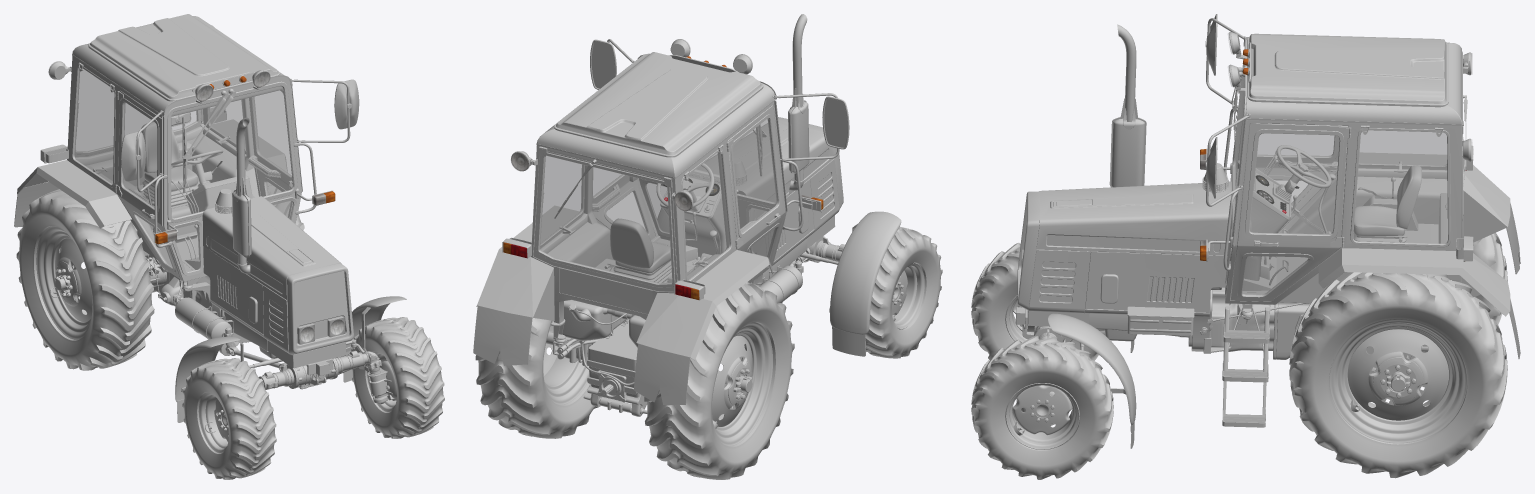
The model's file is Tractor MTZ.fbx.
3 renders of one model, left to right at view 1: azimuth 30°, elevation 25°; view 2: azimuth 150°, elevation 25°; view 3: azimuth 270°, elevation 25°, orthographic. The views are drawn at different scales.
Visible parts, largest first — view 1: Cabin, Wheel Back R, Painted, Corpus, Wheel Front R, Wheel Front L, Chassis Front, Door R, Door L, Chassis Back, Exhaust Pipe, Front Wheel System L (+3 smaller); view 2: Cabin, Wheel Back R, Painted, Corpus, Wheel Back L, Chassis Back, Wheel Front R, Door R, Front Wheel System R, Door L, Exhaust Pipe, Chassis Front (+3 smaller); view 3: Cabin, Wheel Back L, Painted, Door L, Wheel Front L, Corpus, Chassis Back, Wheel Front R, Chassis Front, Door R, Exhaust Pipe, Cabin Stairs (+3 smaller).
Part boxes in pixels (x1,y1,x2,y2): Cabin: (40, 14, 301, 288); Wheel Back R: (16, 189, 154, 370); Painted: (17, 119, 346, 355); Corpus: (14, 53, 353, 354); Wheel Front R: (182, 358, 276, 479); Wheel Front L: (351, 317, 444, 438); Chassis Front: (219, 261, 388, 404); Door R: (115, 90, 180, 277); Door L: (248, 89, 293, 219); Chassis Back: (133, 225, 250, 347); Exhaust Pipe: (232, 117, 251, 273); Front Wheel System L: (342, 296, 406, 400); Cabin: (502, 39, 786, 342); Wheel Back R: (644, 282, 794, 479); Painted: (476, 121, 839, 360); Corpus: (473, 39, 843, 404); Wheel Back L: (475, 318, 598, 438); Chassis Back: (553, 261, 803, 416); Wheel Front R: (865, 227, 942, 358); Door R: (726, 105, 785, 279); Front Wheel System R: (829, 211, 901, 356); Door L: (592, 167, 655, 239); Exhaust Pipe: (788, 14, 809, 190); Chassis Front: (755, 177, 845, 281); Cabin: (1225, 32, 1473, 316); Wheel Back L: (1289, 272, 1507, 478); Painted: (1028, 152, 1510, 316); Door L: (1230, 123, 1351, 301); Wheel Front L: (971, 336, 1113, 479); Corpus: (1017, 18, 1520, 358); Chassis Back: (1188, 280, 1451, 359); Wheel Front R: (971, 243, 1105, 360); Chassis Front: (1016, 287, 1221, 342); Door R: (1235, 99, 1339, 232); Exhaust Pipe: (1109, 24, 1146, 187); Cabin Stairs: (1222, 303, 1270, 427).
Size of the model in its own units: 2201 by 2843 by 3735.
